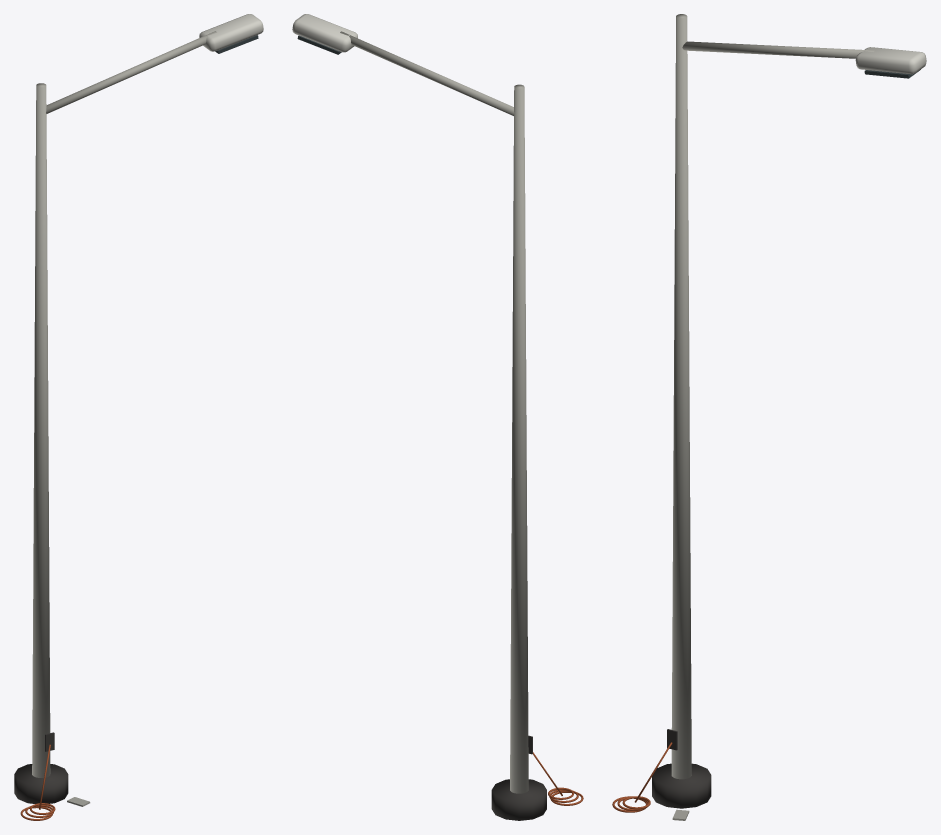
File: streetlight.glb
3 renders of one model, left to right at view 1: azimuth 30°, elevation 25°; view 2: azimuth 150°, elevation 25°; view 3: azimuth 330°, elevation 25°, orthographic. The views are drawn at different scales.
Parts seen in each view (by area): view 1: pole, footing, arm, cobra; view 2: pole, footing, arm, cobra; view 3: pole, footing, arm, cobra.
Part boxes in pixels (bbox=[...]): pole: bbox=[32, 83, 50, 777]; footing: bbox=[14, 764, 68, 803]; arm: bbox=[46, 31, 216, 113]; cobra: bbox=[199, 14, 263, 51]; pole: bbox=[510, 84, 528, 793]; footing: bbox=[491, 779, 546, 820]; arm: bbox=[340, 31, 514, 115]; cobra: bbox=[292, 14, 357, 52]; pole: bbox=[671, 14, 691, 779]; footing: bbox=[652, 763, 711, 808]; arm: bbox=[682, 41, 874, 58]; cobra: bbox=[855, 47, 926, 74].
Size of the model in its own units: 3.52 by 9.47 by 1.01.
